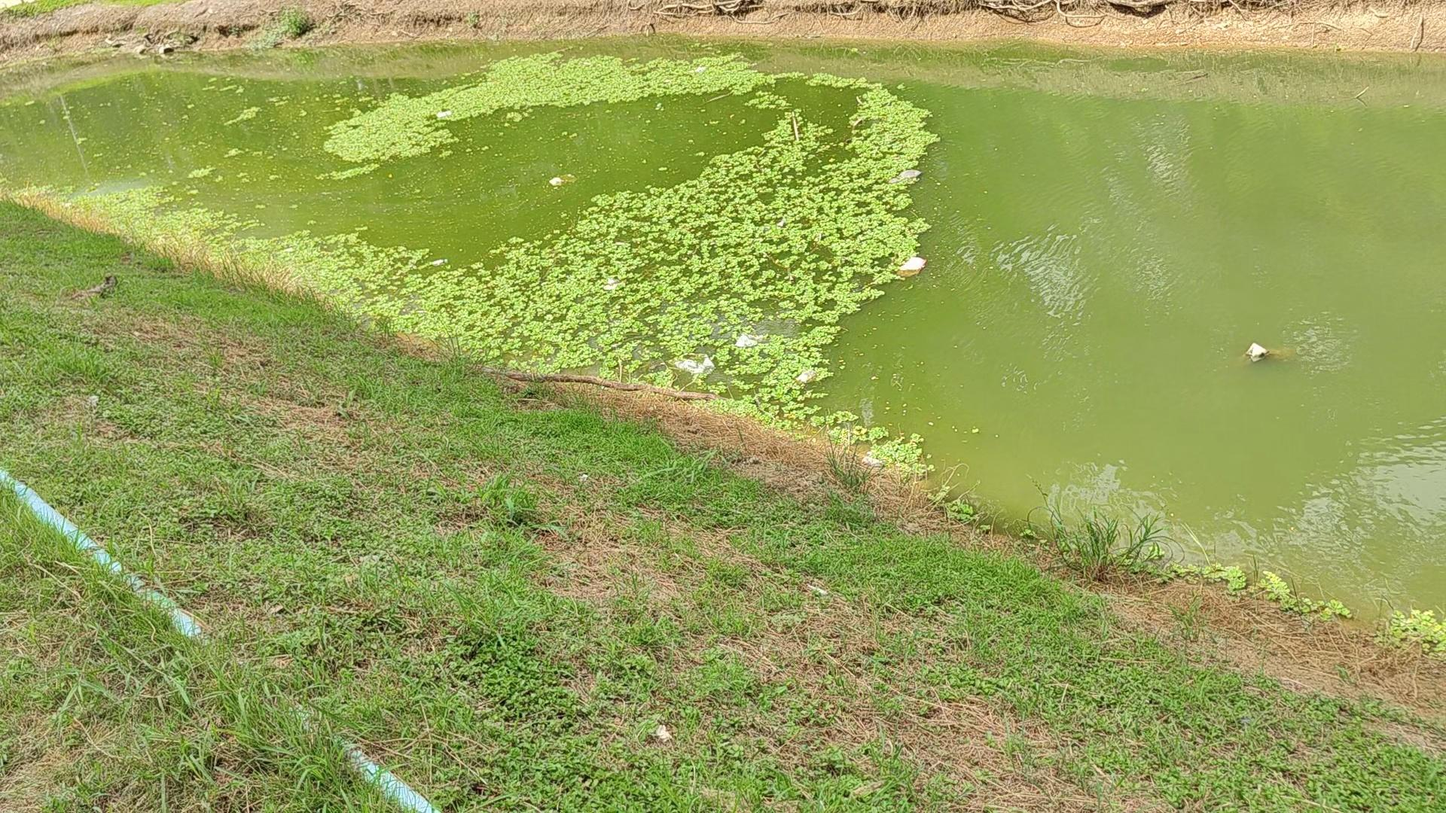trash: (1245, 343, 1295, 362), (676, 355, 714, 375), (900, 256, 926, 275), (889, 169, 921, 182), (735, 333, 758, 348), (797, 370, 817, 383), (429, 257, 447, 268), (605, 277, 620, 290), (436, 110, 452, 118), (549, 177, 564, 185), (693, 65, 706, 72)
